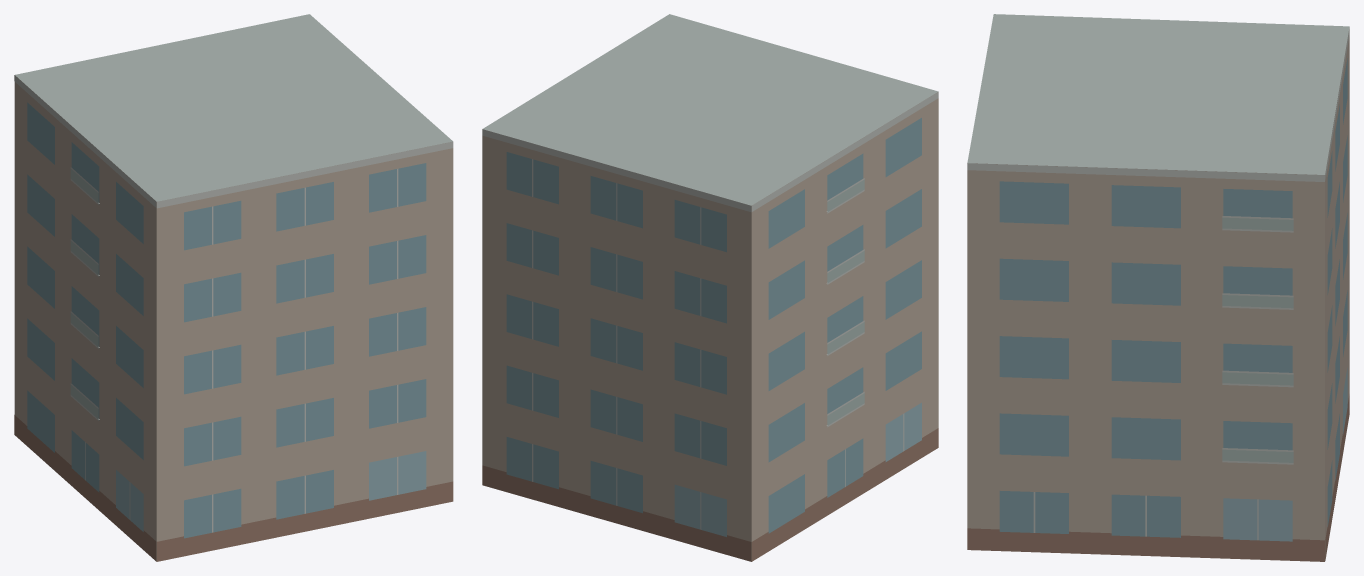
File: survey-upis-32664716.glb
3 renders of one model, left to right at view 1: azimuth 30°, elevation 25°; view 2: azimuth 150°, elevation 25°; view 3: azimuth 270°, elevation 25°, orthographic. The views are drawn at different scales.
Parts seen in each view (by area): view 1: survey-upis-32664716.tmp; view 2: survey-upis-32664716.tmp; view 3: survey-upis-32664716.tmp.
Part boxes in pixels (x1,y1,x2,y2): survey-upis-32664716.tmp: [14, 14, 453, 561]; survey-upis-32664716.tmp: [482, 14, 938, 561]; survey-upis-32664716.tmp: [967, 14, 1349, 561].
Size of the model in its own units: 11.88 by 13.3 by 11.92.
